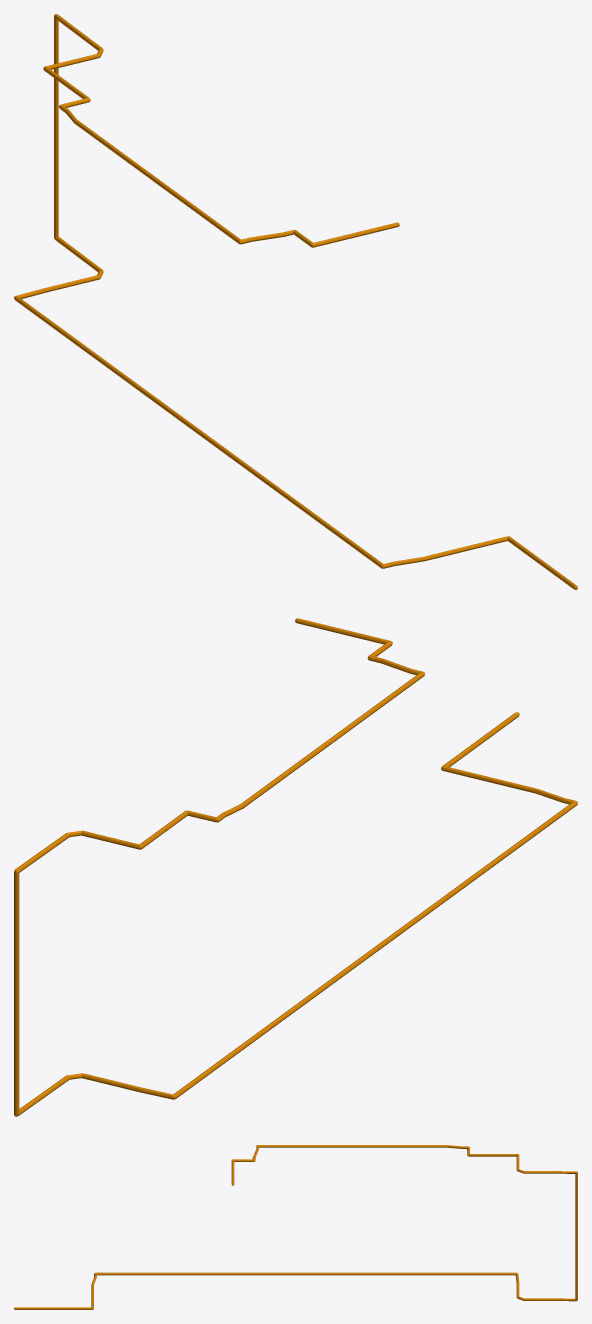
3 renders of one model, top to bottom at view 1: azimuth 30°, elevation 25°; view 2: azimuth 150°, elevation 25°; view 3: azimuth 270°, elevation 25°, orthographic. The views are drawn at different scales.
Size of the model in its own units: 660 by 1020 by 4015.
